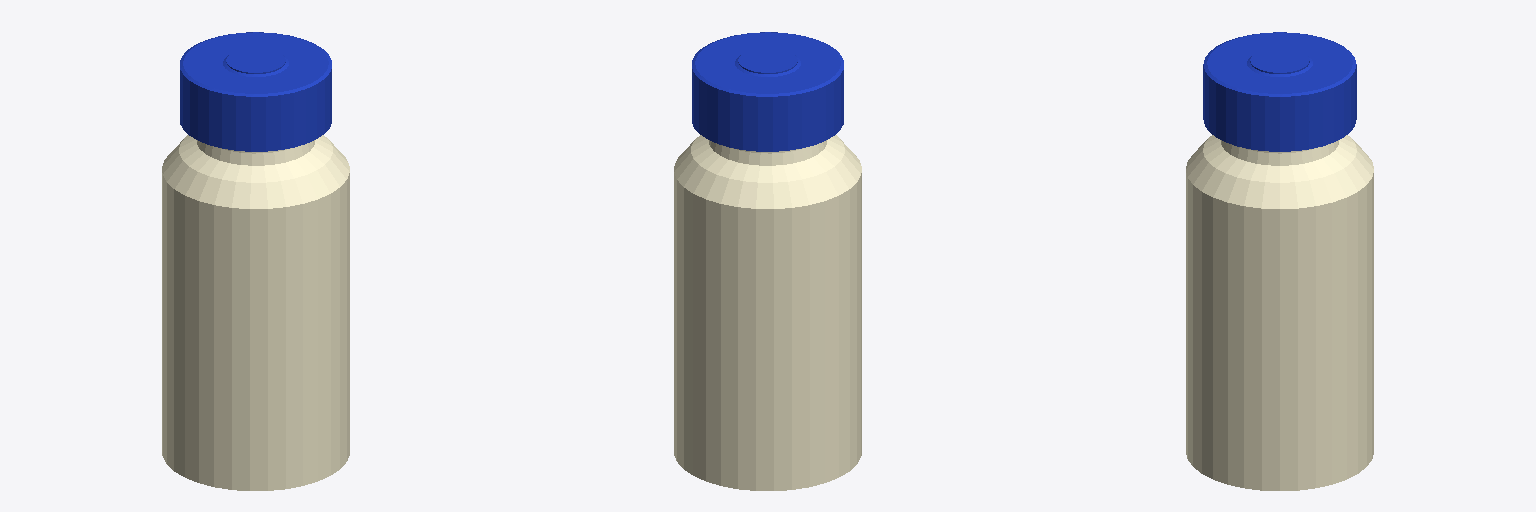
The picture shows the model from 3 angles: view 1: azimuth 30°, elevation 25°; view 2: azimuth 150°, elevation 25°; view 3: azimuth 270°, elevation 25°; orthographic projection.
Parts seen in each view (by area): view 1: Cylinder, Cylinder.001; view 2: Cylinder, Cylinder.001; view 3: Cylinder, Cylinder.001.
Boxes of the visible parts, box(x1,y1,x2,y2) form: Cylinder: box(162, 135, 349, 490); Cylinder.001: box(180, 32, 331, 151); Cylinder: box(674, 135, 861, 490); Cylinder.001: box(692, 32, 843, 151); Cylinder: box(1186, 135, 1373, 490); Cylinder.001: box(1203, 32, 1356, 151).
Bounding box in the file's own units: 0.0438 × 0.1003 × 0.0438.
Materials: 2 (2 with a texture image).